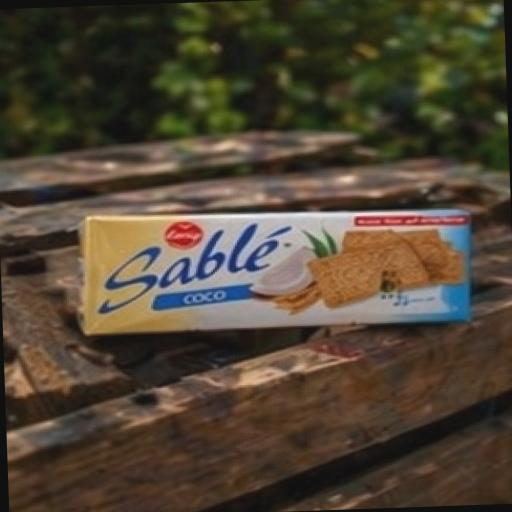sabl: (33, 108, 507, 390)
